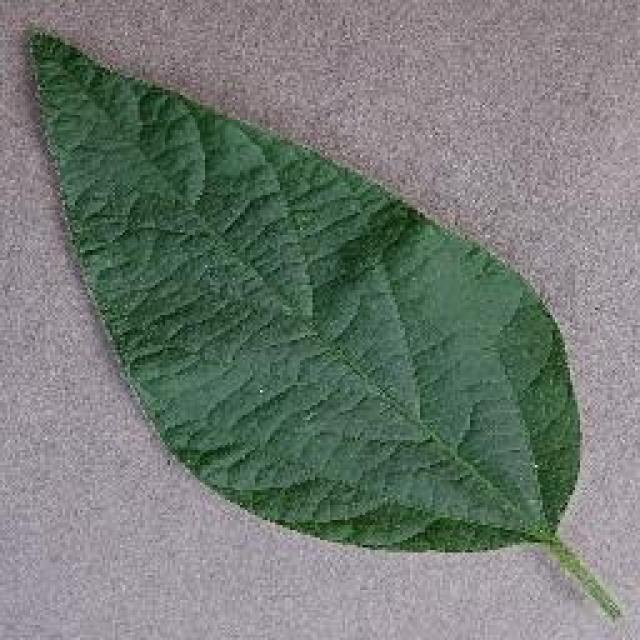Soy_healthy: (60, 81, 569, 525)
